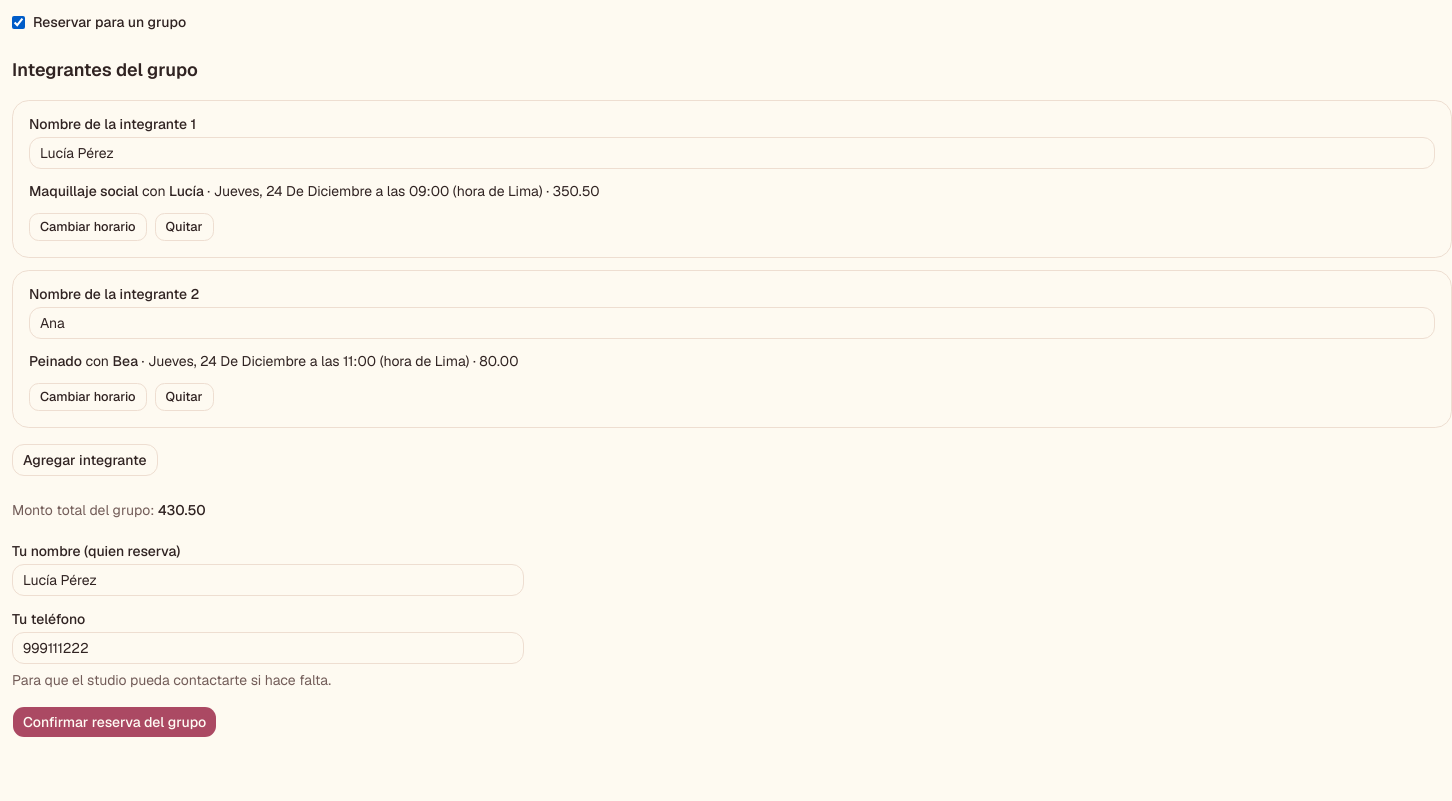
Scenario: choque parcial › un servicio o una maquilladora ya no disponibles se marcan en su integrante
Click the button "Confirmar reserva del grupo": (115, 722) [12,706,217,738]
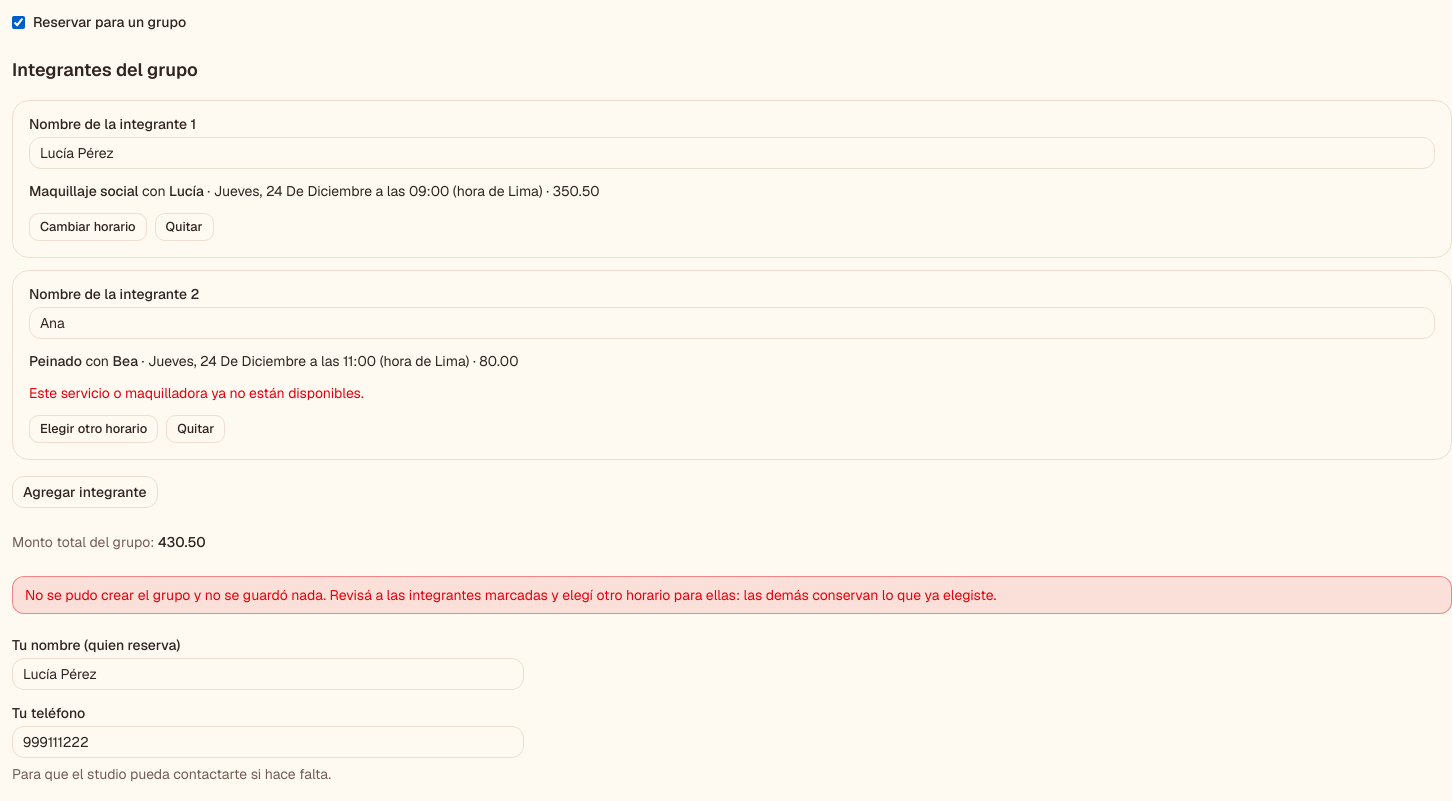
Expected: the list item "Este servicio o maquilladora ya no están disponibles." is shown, [29,384,364,402]
